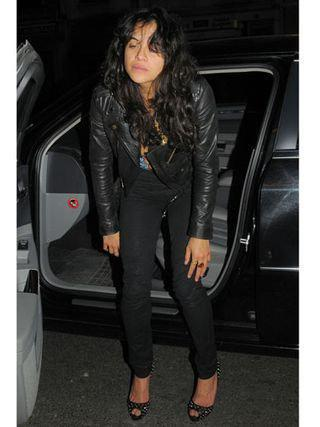Drunk: (126, 22, 163, 84)
